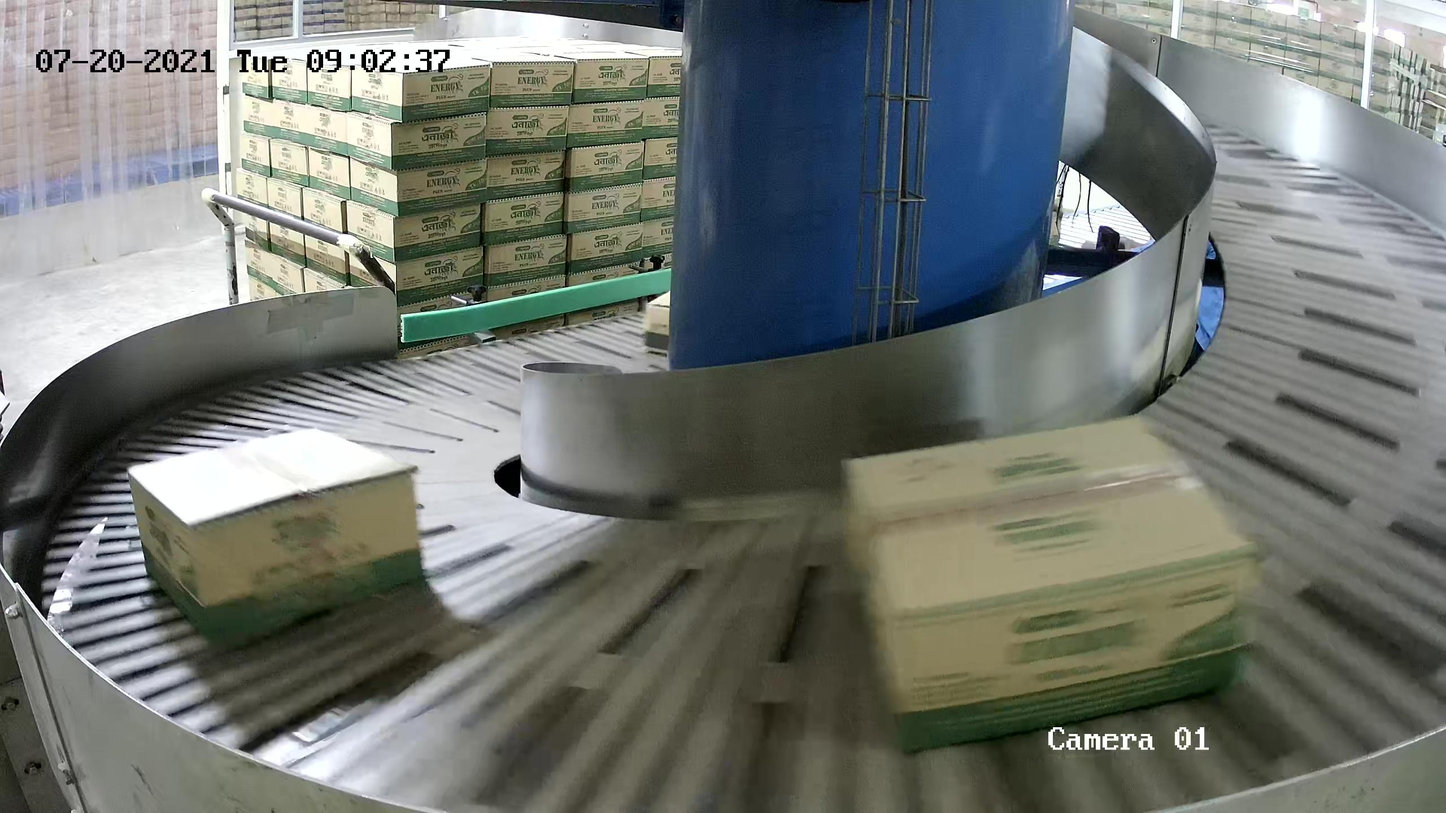Box: (841, 413, 1251, 754), (124, 427, 426, 655)
